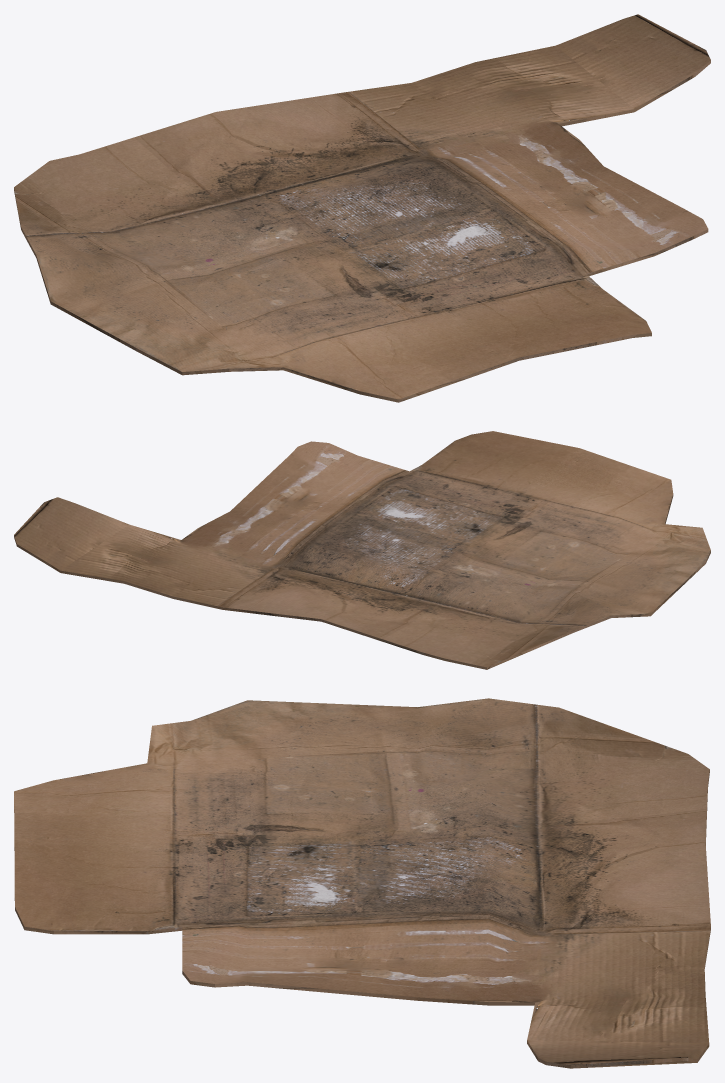
Rendered from FlatBox4.FBX.
The picture shows the model from 3 angles, top to bottom: view 1: azimuth 30°, elevation 25°; view 2: azimuth 150°, elevation 25°; view 3: azimuth 270°, elevation 25°; orthographic projection. The views are drawn at different scales.
Parts seen in each view (by area): view 1: FlatBox4; view 2: FlatBox4; view 3: FlatBox4.
Boxes of the visible parts, x1=… form: FlatBox4: x1=14, y1=14, x2=710, y2=402; FlatBox4: x1=14, y1=431, x2=710, y2=669; FlatBox4: x1=14, y1=698, x2=710, y2=1068.
Bounding box in the file's own units: 57.95 × 1.9 × 44.77.
